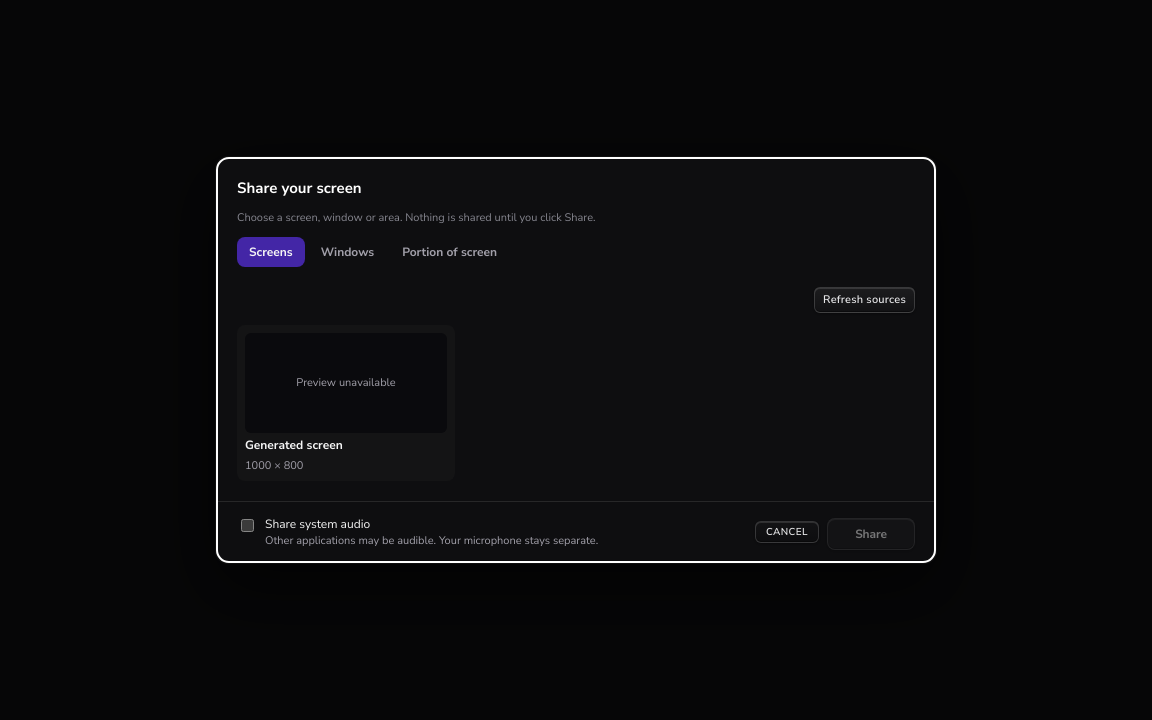
Test: screen and application sharing chooser › keeps region fields in the scrolling body and audio/actions in a separate footer
Expected: the button "Preview unavailable Generated screen 1000 × 800" is shown, [237, 325, 455, 481]
Click the tab "Portion of screen" at (450, 252), box [390, 237, 509, 267]
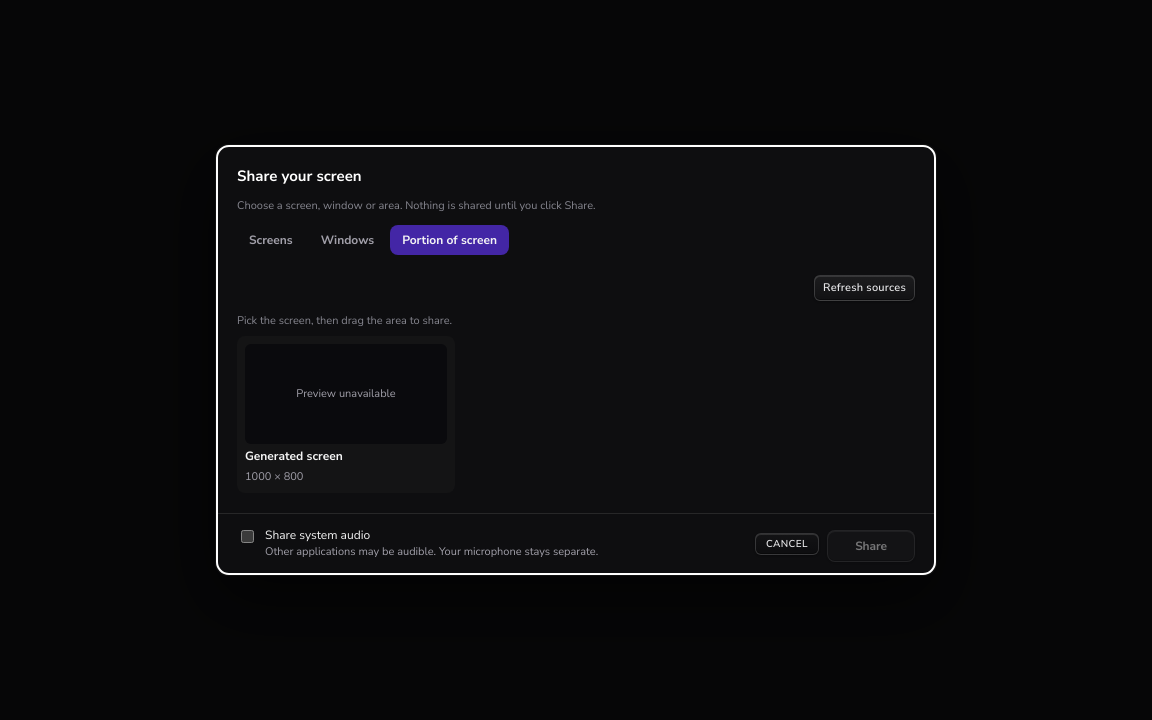
Click the button "Preview unavailable Generated screen 1000 × 800" at (346, 414), box [237, 336, 455, 493]
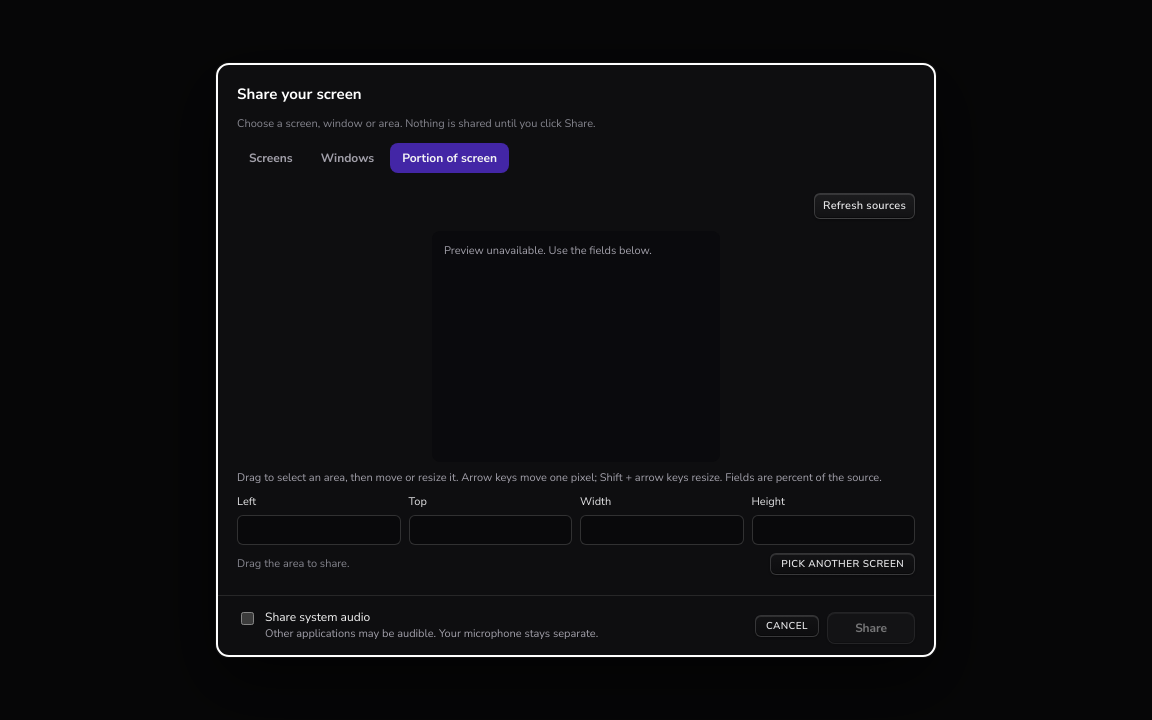
Expected: the footer "Share" is shown, [217, 595, 935, 656]
Expected: the element named "Width" is shown, [217, 193, 935, 595]
